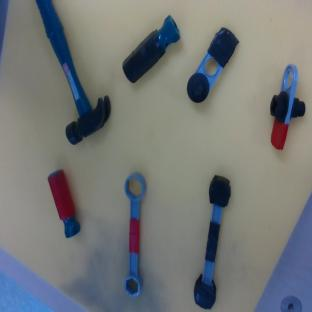part_1_bad: (180, 25, 241, 106)
part_1_good: (270, 64, 305, 150)
part_2_bad: (116, 14, 186, 85)
part_2_good: (46, 168, 83, 238)
part_3_bad: (191, 174, 232, 310)
part_3_good: (120, 172, 146, 297)
